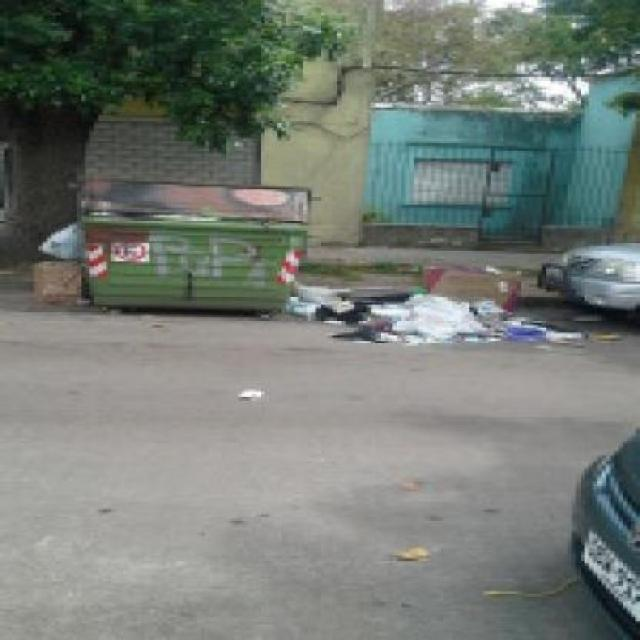garbage: (286, 272, 559, 354)
